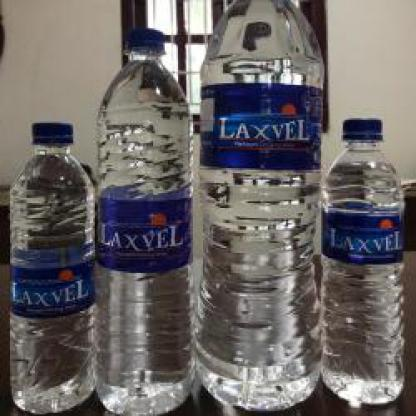bottle: (195, 0, 324, 416), (98, 28, 191, 416), (0, 110, 110, 414), (318, 116, 409, 406)
